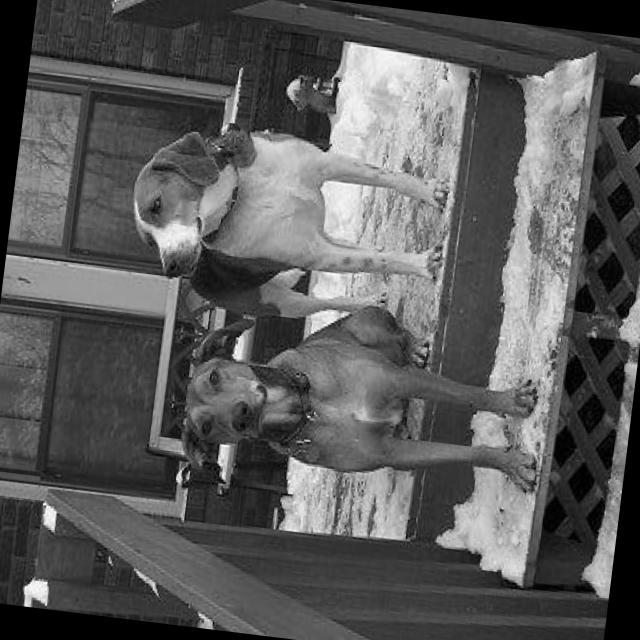sitting: (175, 278, 558, 526)
